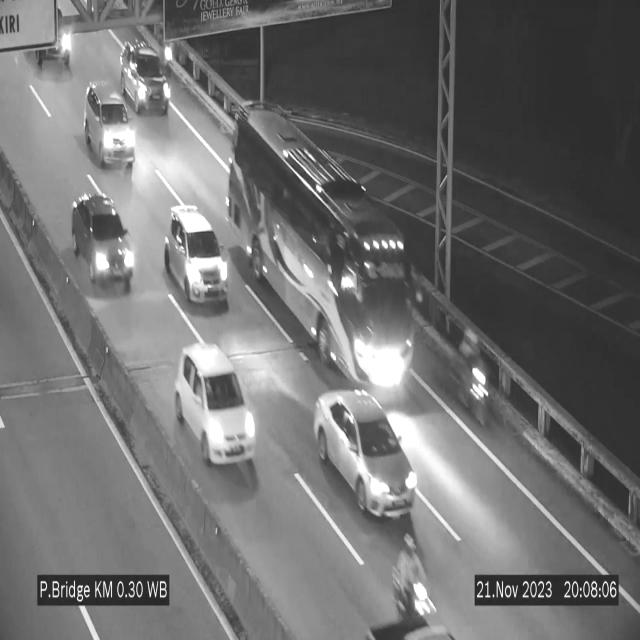Bus: (228, 99, 424, 395)
Car: (313, 392, 417, 516), (174, 343, 260, 471), (163, 205, 229, 306), (72, 193, 134, 292), (85, 81, 135, 168), (120, 40, 170, 115)
Motorcycle: (450, 324, 492, 436), (394, 530, 433, 622)
